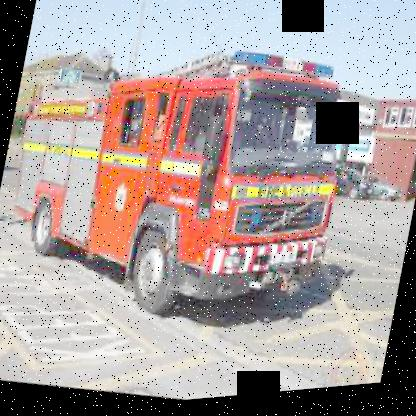emergency: (0, 0, 370, 364)
